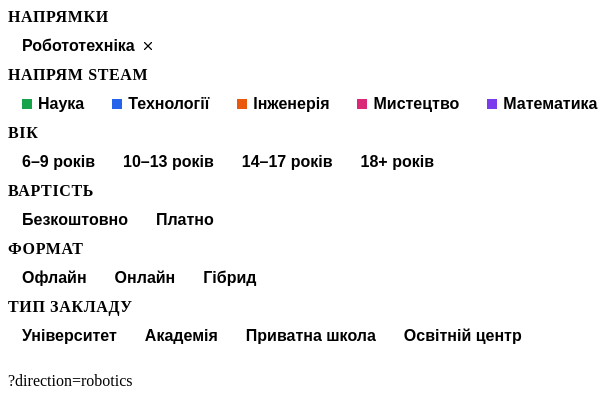
Test: FiltersForm › категорії перемикаються, вік — одиночний вибір
This screenshot has width=615, height=407.
Click the button "Технології": {"x": 161, "y": 104} [98,84,223,124]
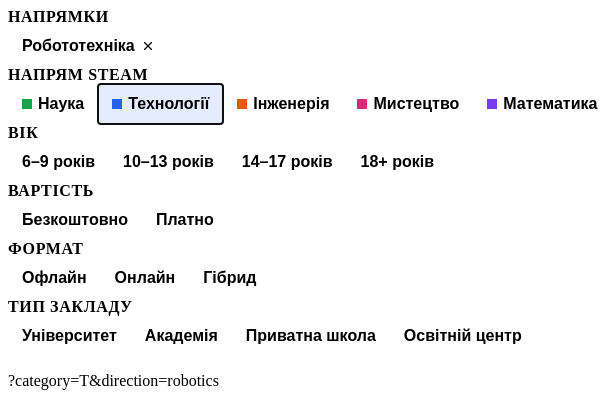
Click the button "Інженерія": {"x": 283, "y": 104} [223,84,344,124]
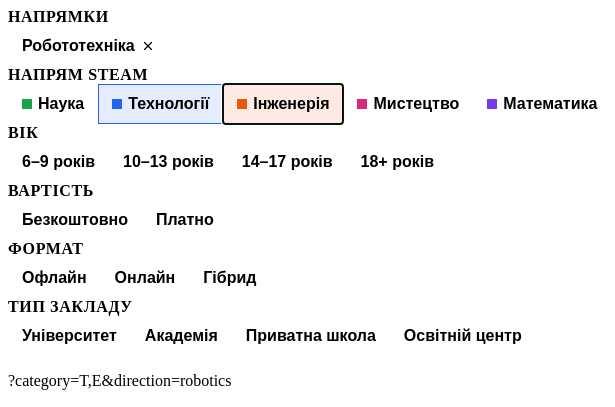
Click the button "10–13 років": {"x": 168, "y": 162} [109,142,228,182]
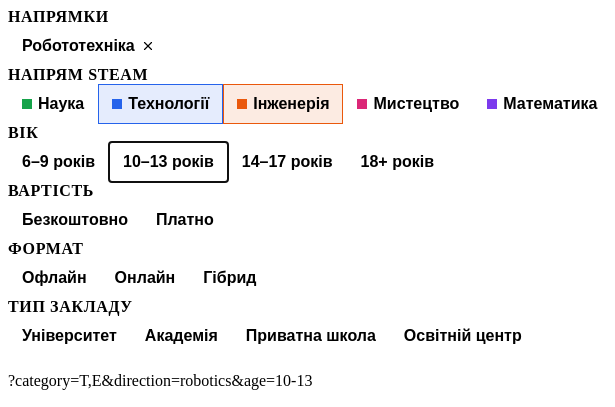
Click the button "14–17 років": {"x": 287, "y": 162} [228,142,347,182]
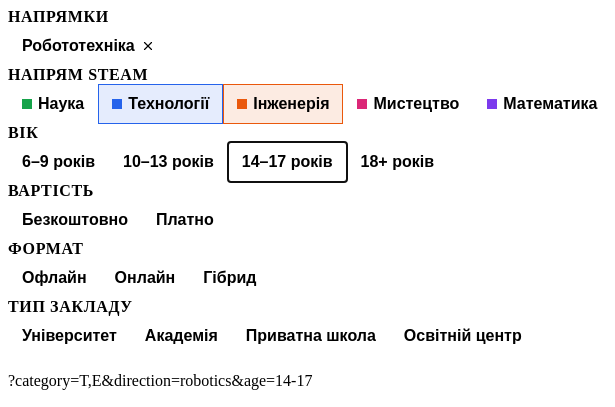
Now the text with test id "search" reads "?category=T,E&direction=robotics&age=14-17", box [8,372,312,389]
